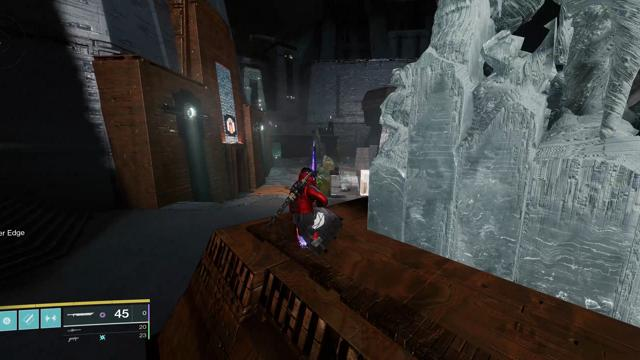worship: (227, 118, 235, 134)
